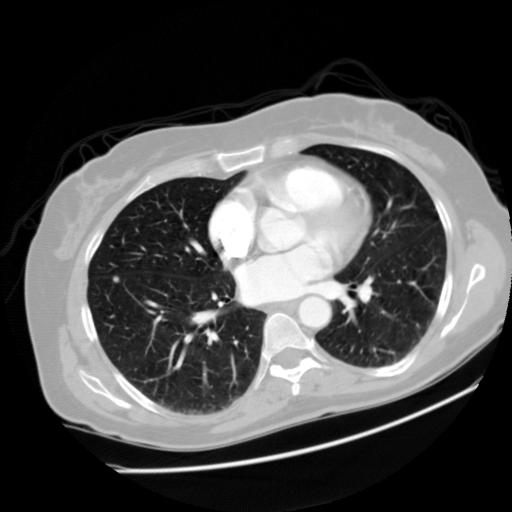nodule: (109, 272, 123, 286)
